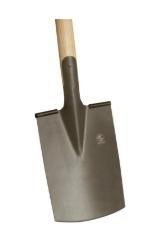PELLE: (0, 4, 131, 241)
